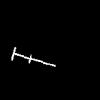double_crochet: (12, 47, 54, 65)
